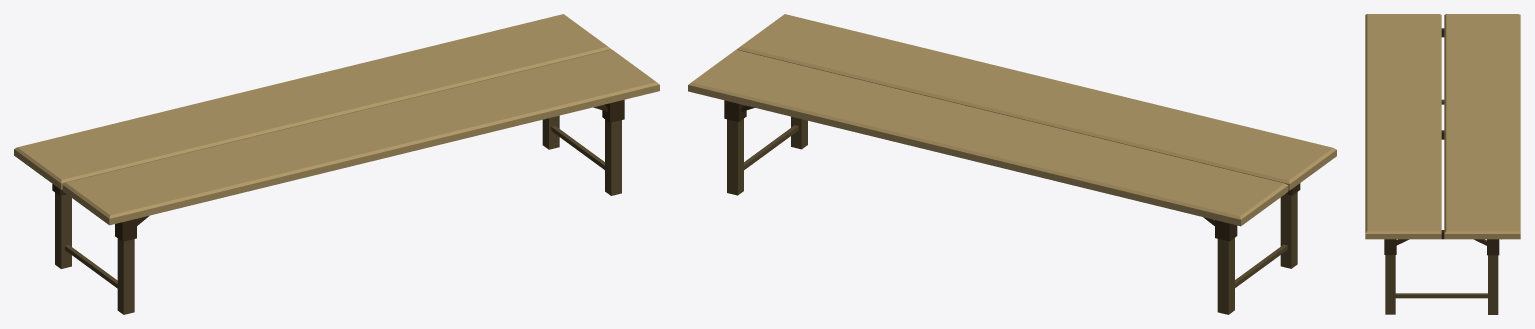
The model's file is table.fbx.
The picture shows the model from 3 angles, left to right: view 1: azimuth 30°, elevation 25°; view 2: azimuth 150°, elevation 25°; view 3: azimuth 270°, elevation 25°; orthographic projection. The views are drawn at different scales.
Parts seen in each view (by area): view 1: pCube37, pCube35, pCube36; view 2: pCube37, pCube35, pCube36; view 3: pCube37, pCube35, pCube36.
Boxes of the visible parts, <box> form: pCube37: <box>14,14,659,225</box>; pCube35: <box>55,115,621,314</box>; pCube36: <box>52,100,624,241</box>; pCube37: <box>688,14,1336,226</box>; pCube35: <box>727,116,1297,314</box>; pCube36: <box>724,100,1300,241</box>; pCube37: <box>1365,14,1520,239</box>; pCube35: <box>1385,99,1498,314</box>; pCube36: <box>1384,28,1501,255</box>.
Bounding box in the file's own units: 17.74 × 3.5 × 5.32.
